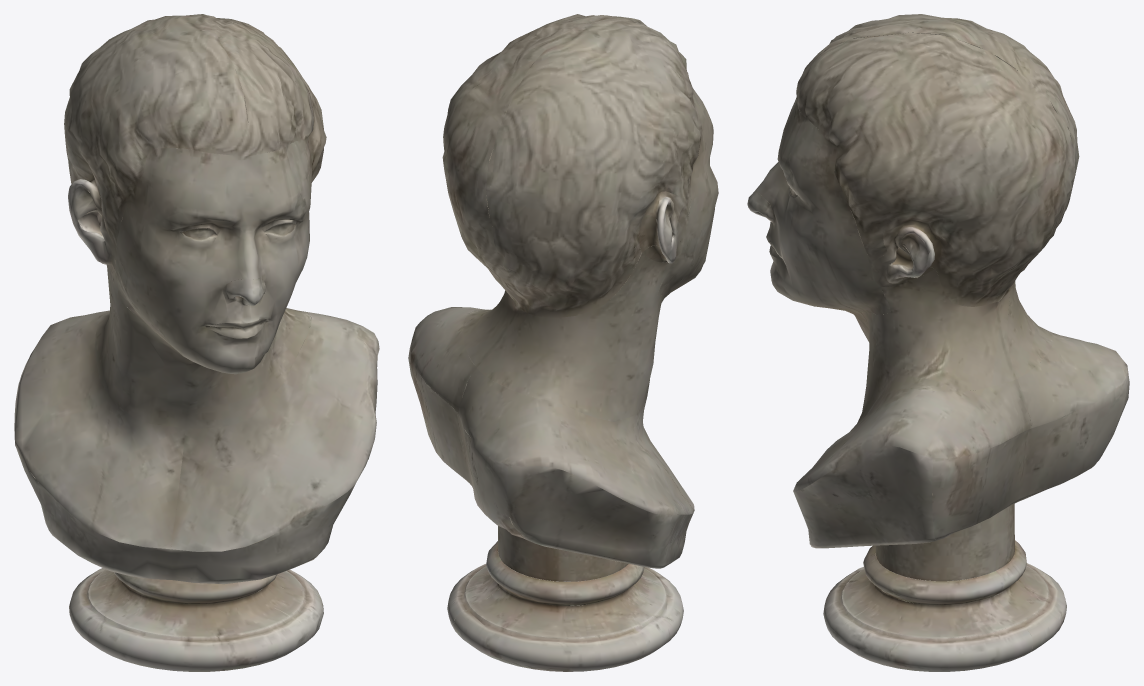
The model's file is marble_bust_01.glb.
3 views of the same model, side by side, from view 1: azimuth 30°, elevation 25°; view 2: azimuth 150°, elevation 25°; view 3: azimuth 270°, elevation 25° (orthographic). The views are drawn at different scales.
Visible parts, largest first — view 1: marble_bust_01; view 2: marble_bust_01; view 3: marble_bust_01.
Boxes of the visible parts, box(x1,y1,x2,y2) form: marble_bust_01: box(14, 14, 379, 671); marble_bust_01: box(408, 14, 718, 671); marble_bust_01: box(747, 14, 1129, 671).
Bounding box in the file's own units: 0.2717 × 0.515 × 0.2998.
Materials: 1 (1 with a texture image).
